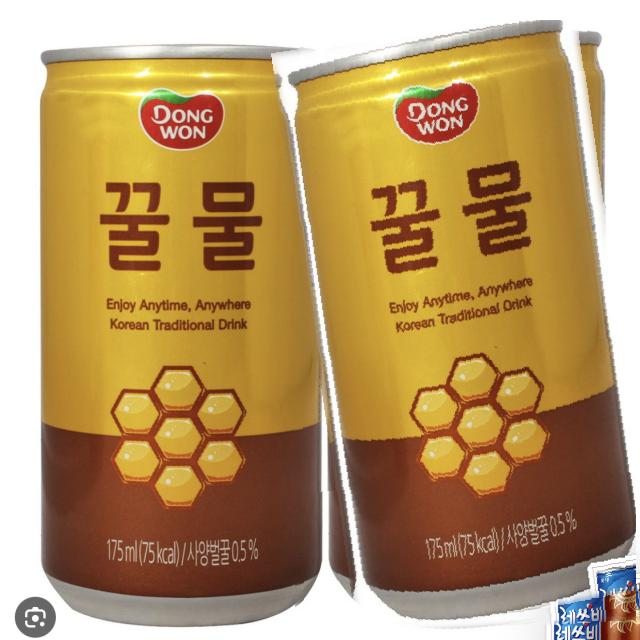recyclable: (291, 20, 636, 640)
